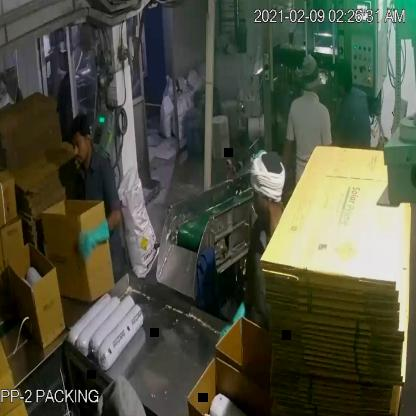glove: (73, 218, 121, 262)
